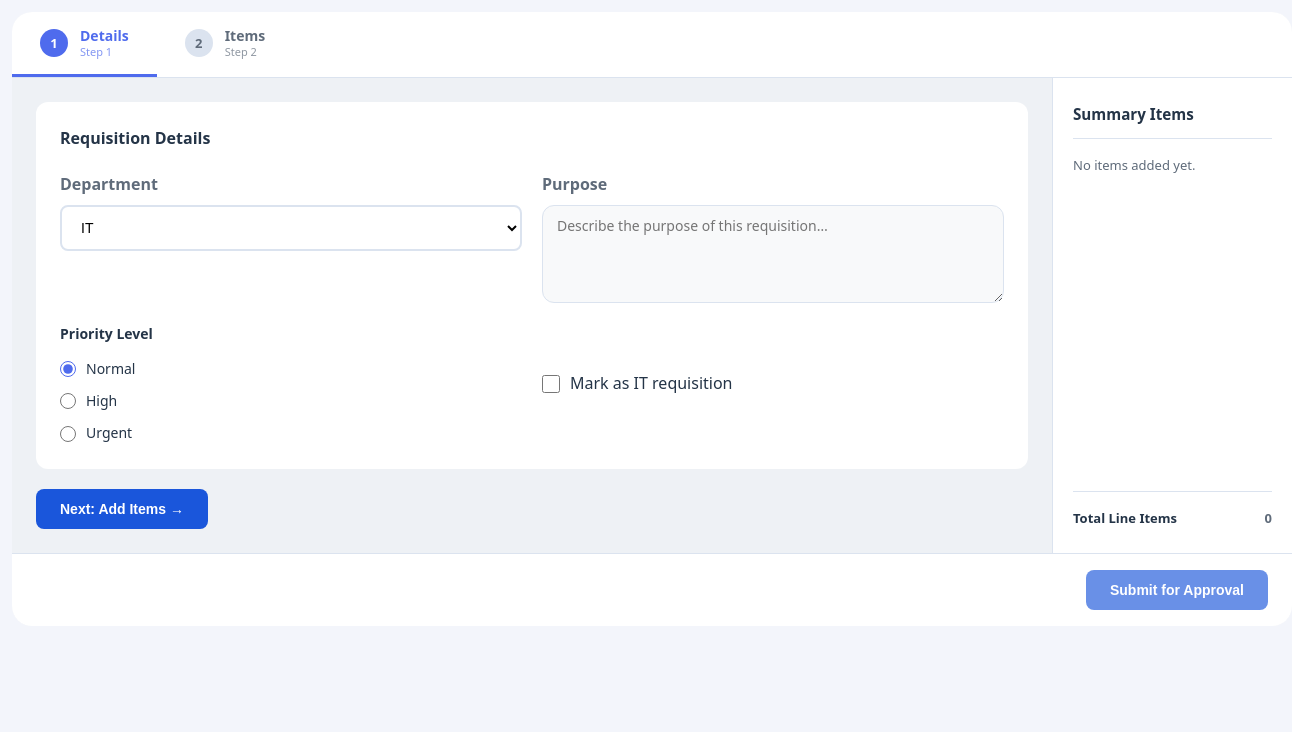
RequisitionForm › blocks submission when the selected department does not match the logged-in user
Select "Accounts" in the dropdown labelled "Department" at (291, 228), box [60,205,522,251]
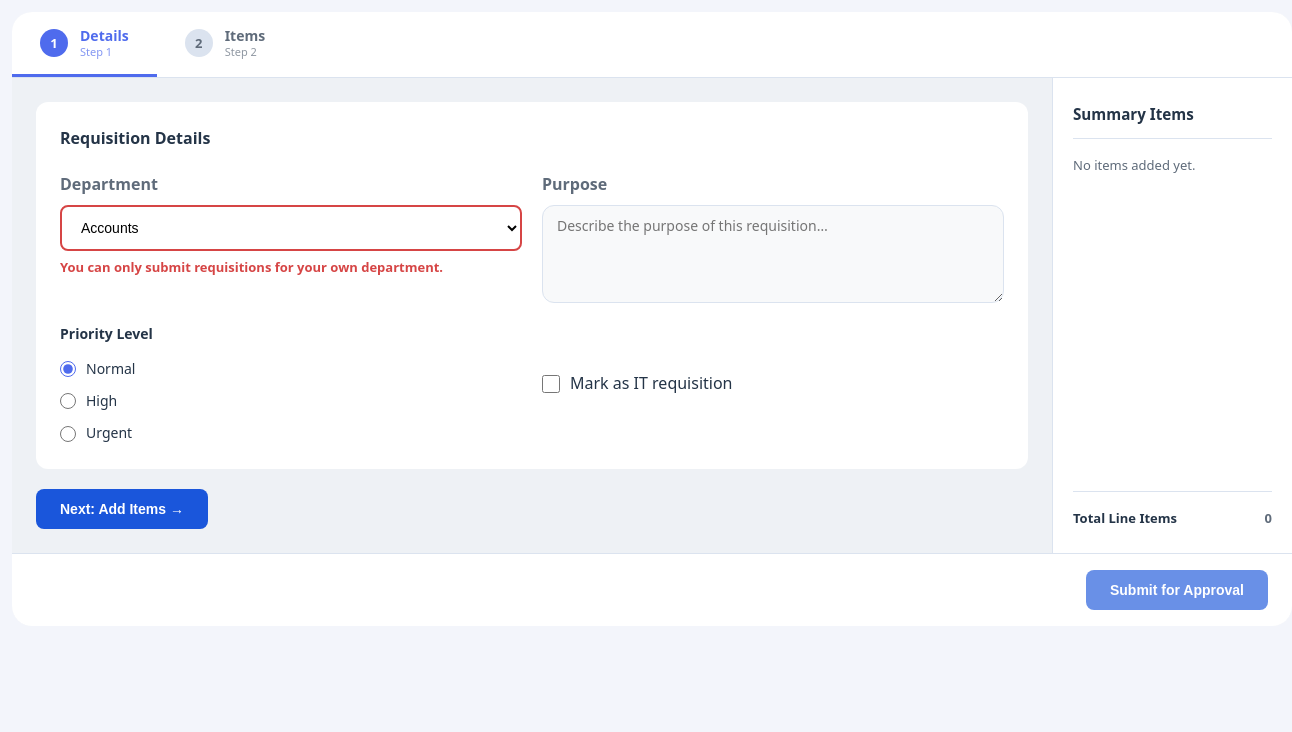
Expected: the button "Submit for Approval" is disabled, [1086,570,1268,610]
Expected: the text "You can only submit requisitions for your own department." is shown, [60,258,443,276]
